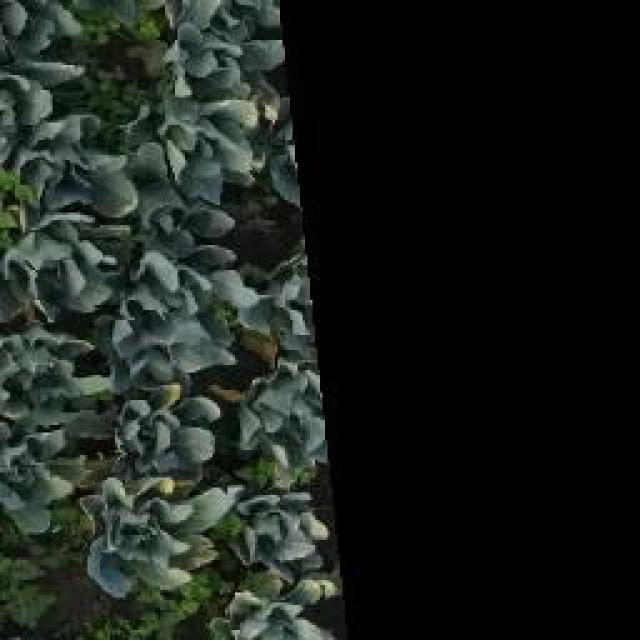cabbage: (110, 252, 247, 389), (150, 9, 272, 138), (8, 207, 118, 324), (18, 112, 138, 218), (117, 153, 233, 257), (230, 362, 326, 482), (94, 482, 192, 598), (2, 327, 101, 433), (108, 388, 220, 476), (227, 489, 327, 573), (0, 0, 93, 87), (0, 436, 74, 536), (236, 571, 342, 640)
